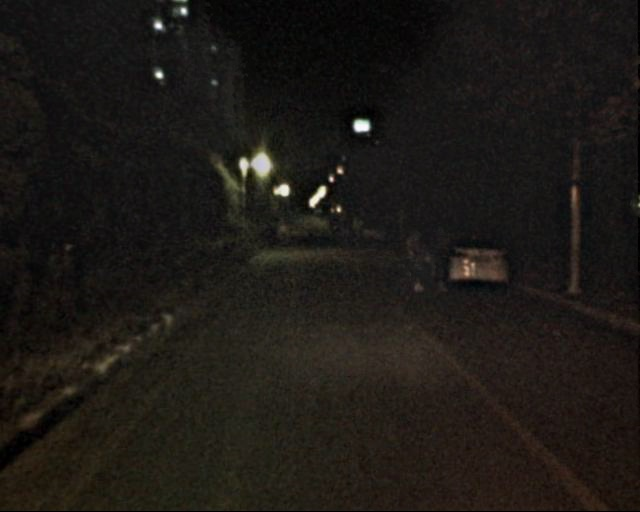person: (403, 229, 430, 296), (428, 227, 455, 294), (323, 216, 351, 242), (276, 217, 290, 250)
